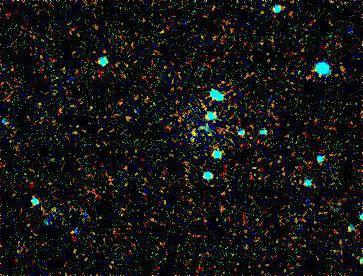star: (182, 120, 212, 150)
